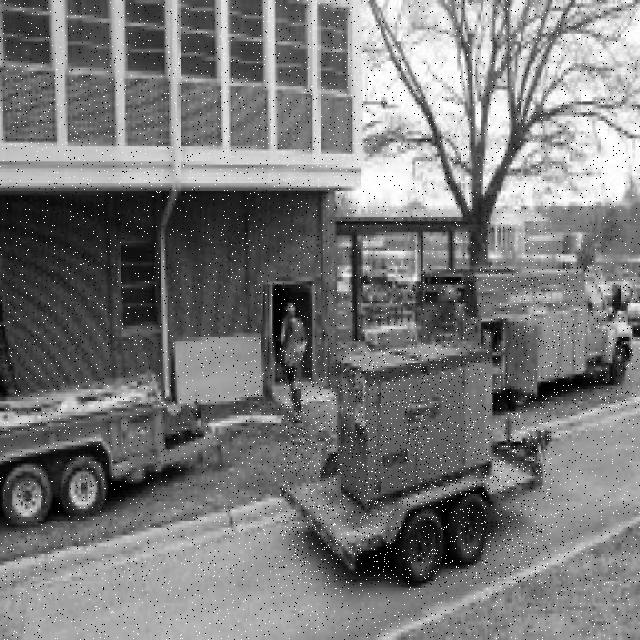Box Truck: (278, 348, 552, 585), (0, 372, 234, 527)
Pickup- Utility: (421, 267, 633, 409)
